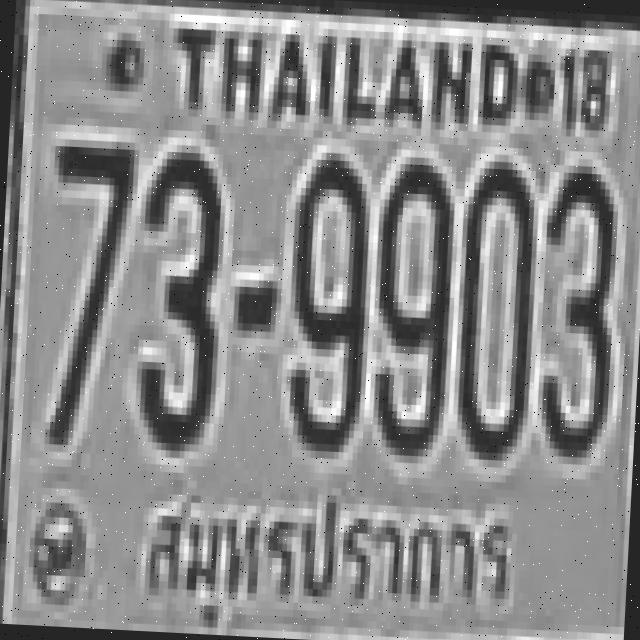0: (451, 156, 537, 458), (282, 152, 368, 453)
3: (128, 144, 224, 446), (533, 161, 618, 455)
7: (41, 136, 136, 444)
9: (280, 151, 370, 446), (368, 156, 452, 450)
SamutPrakan: (129, 473, 517, 640)
